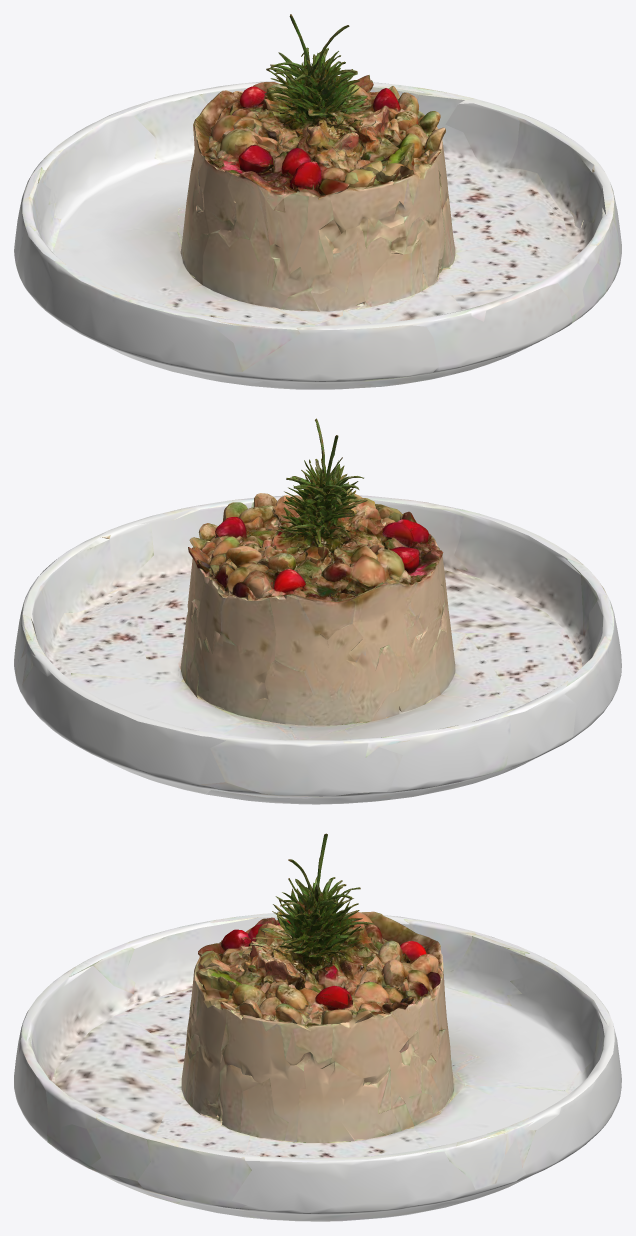
Rendered from mutabbal.glb.
3 views of the same model, one above another, from view 1: azimuth 30°, elevation 25°; view 2: azimuth 150°, elevation 25°; view 3: azimuth 270°, elevation 25° (orthographic).
Size of the model in its own units: 1.9 by 0.914 by 1.9.
Materials: 1 (1 with a texture image).
